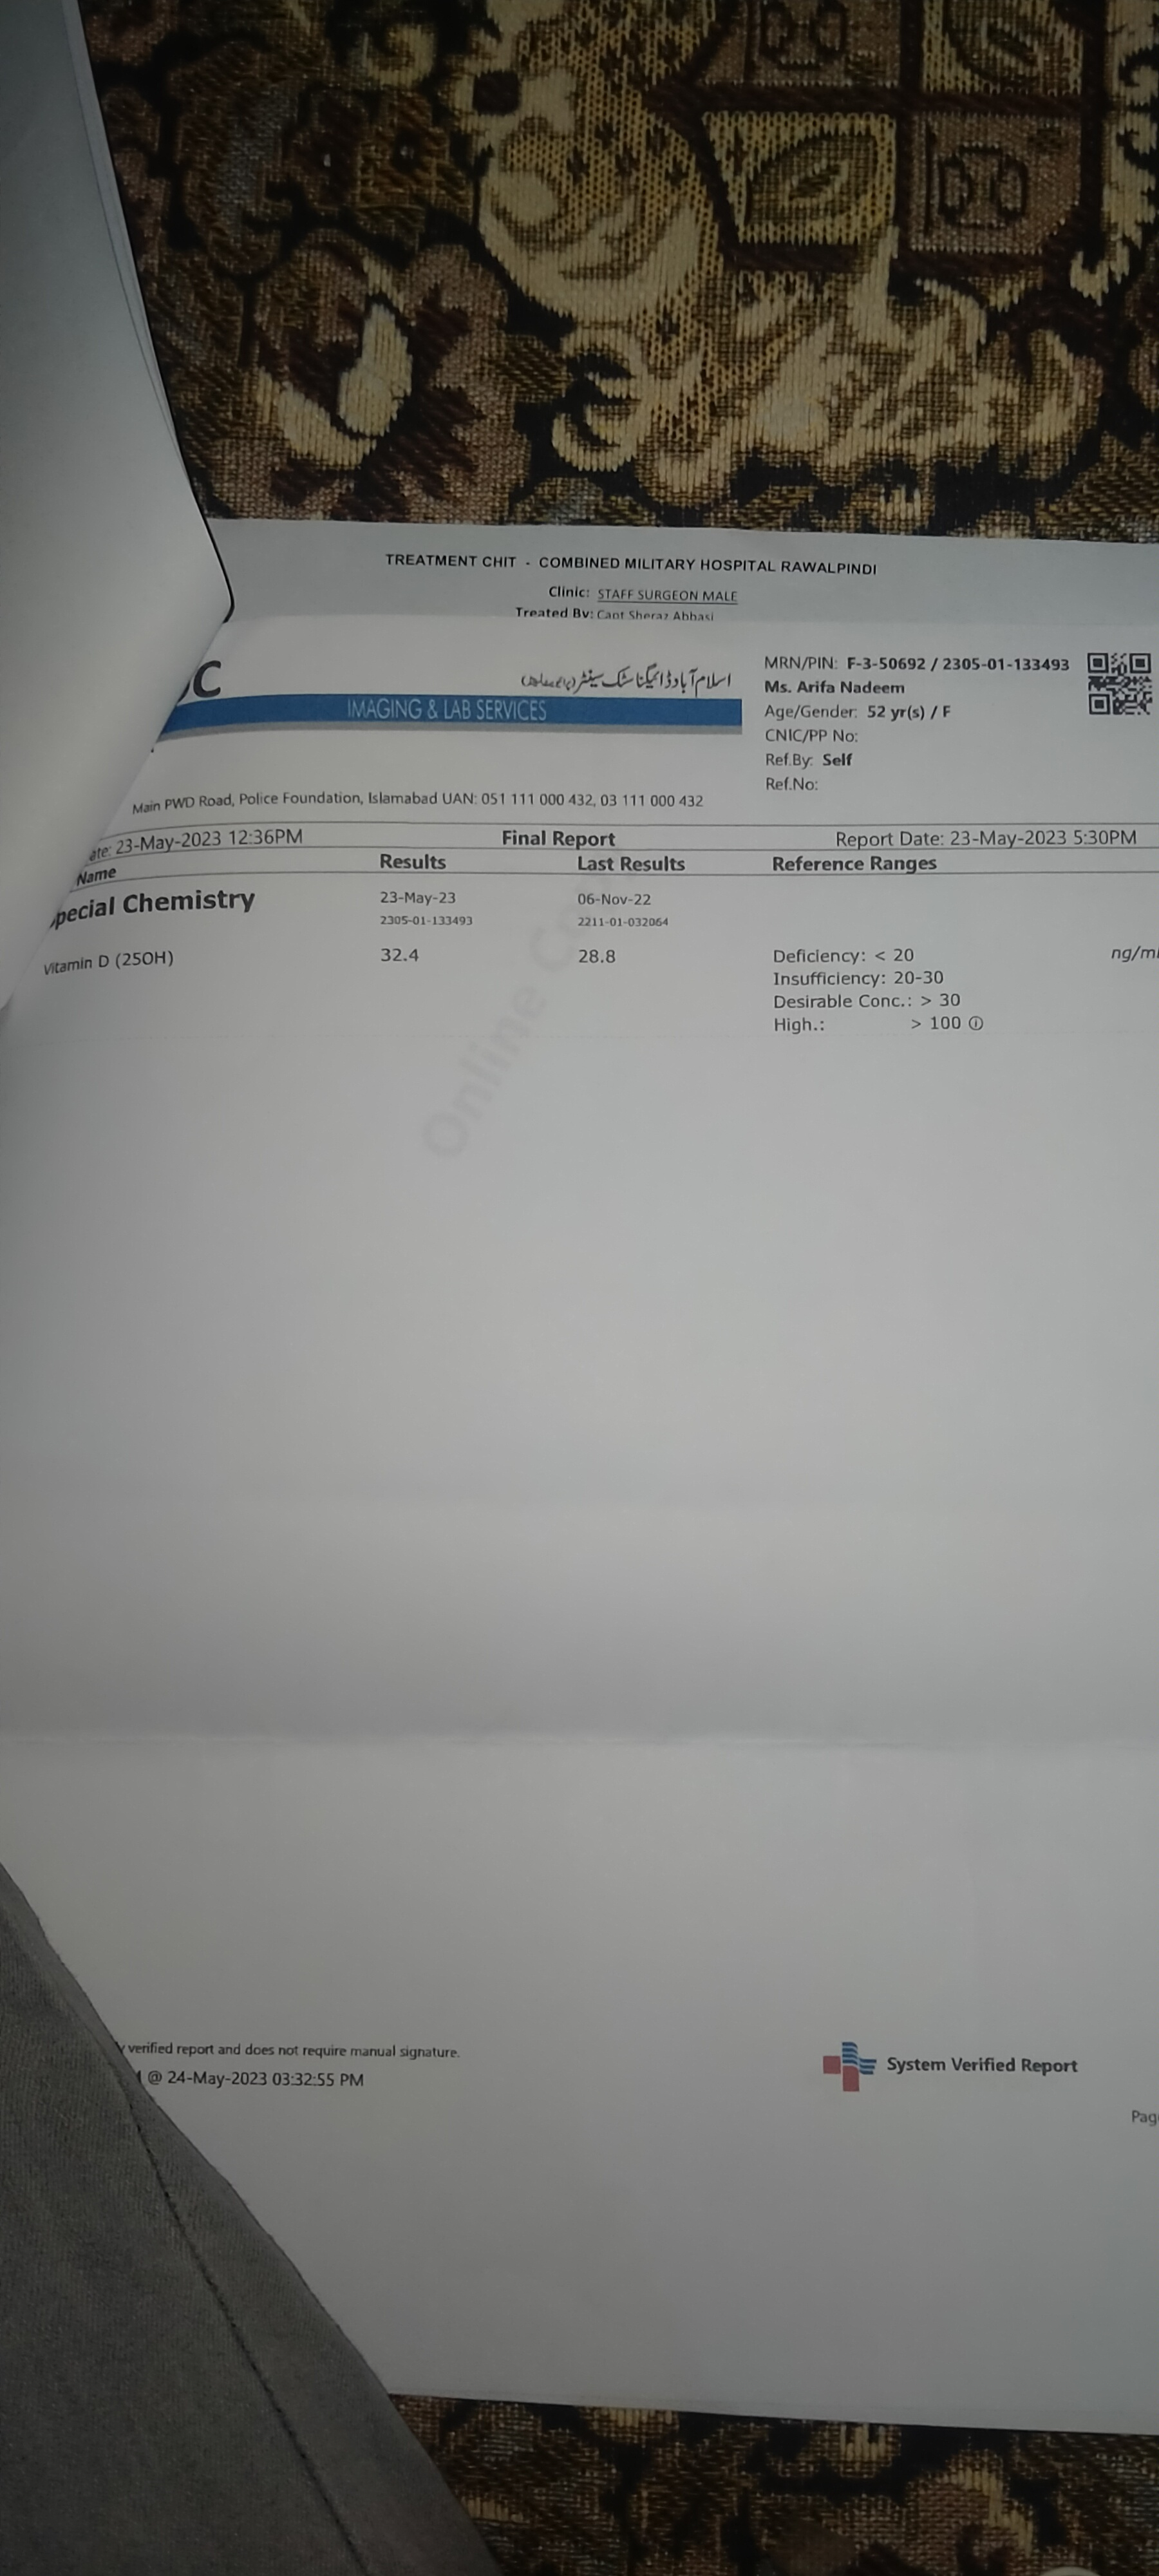report: (33, 881, 1159, 1120)
